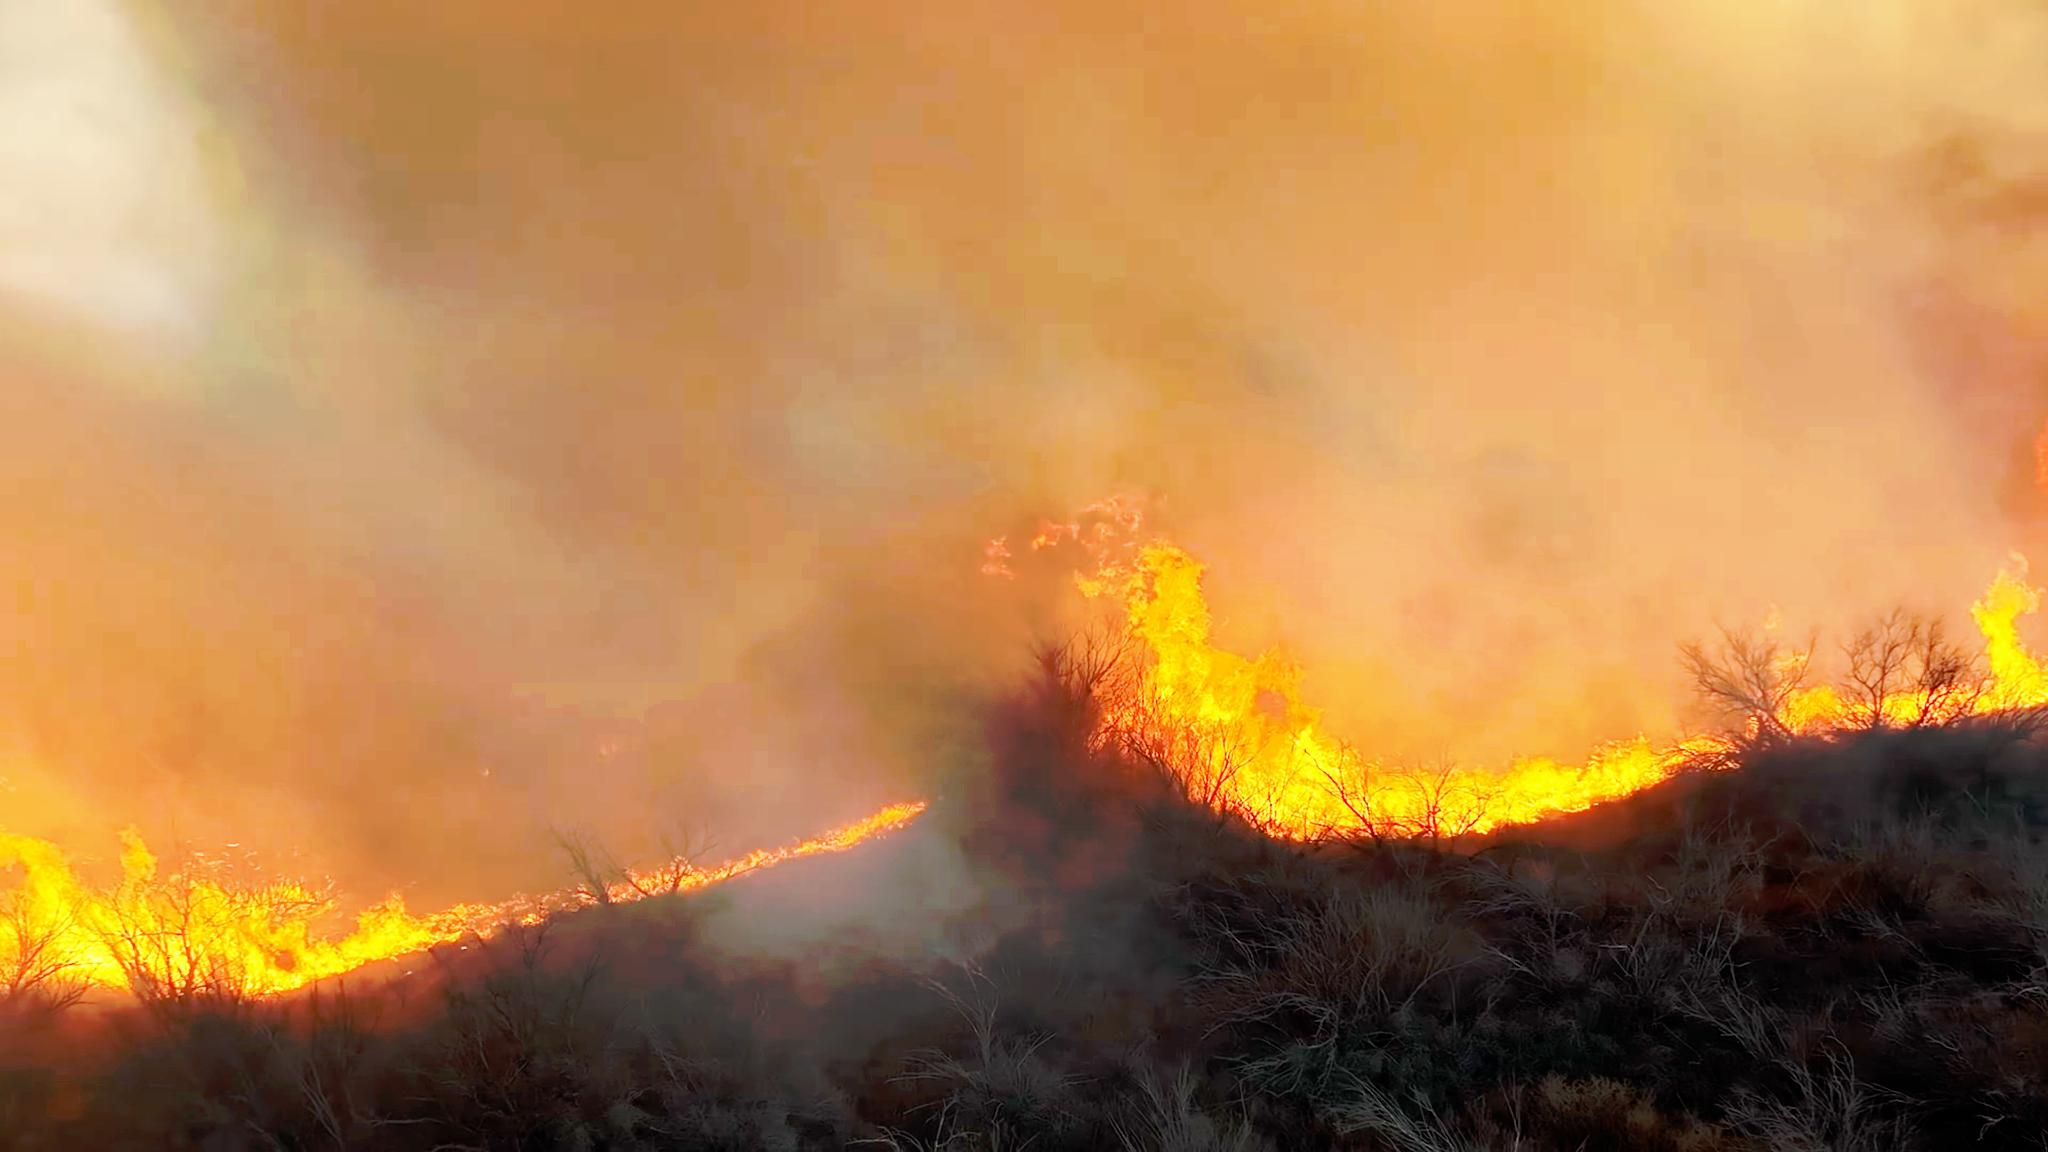fire: (0, 803, 416, 1038), (1072, 502, 1362, 833), (1717, 544, 2048, 751), (1315, 698, 1708, 871)
